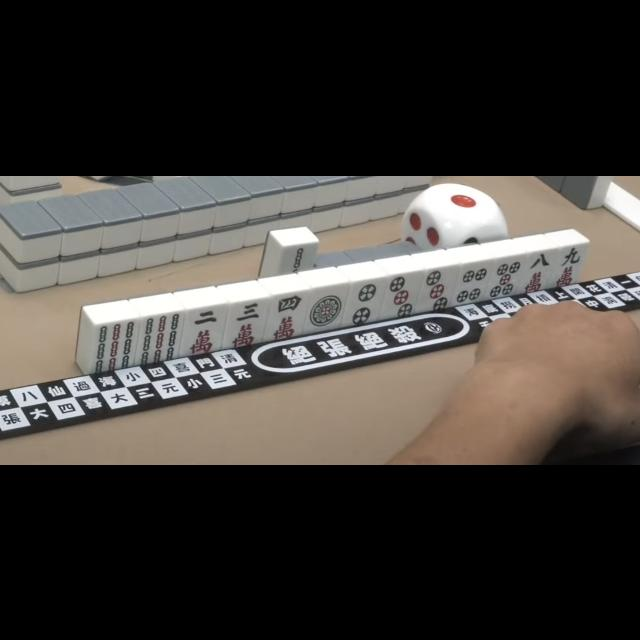b9: (138, 313, 182, 362), (94, 320, 138, 368)
c2: (184, 306, 223, 354)
c3: (227, 300, 266, 346)
c4: (268, 294, 306, 340)
c8: (524, 250, 554, 292)
c9: (554, 243, 586, 285)
d1: (306, 286, 346, 330)
d2: (346, 279, 382, 325)
d3: (382, 272, 421, 318), (421, 266, 454, 310)
d4: (458, 260, 492, 304)
d5: (488, 254, 522, 300)
